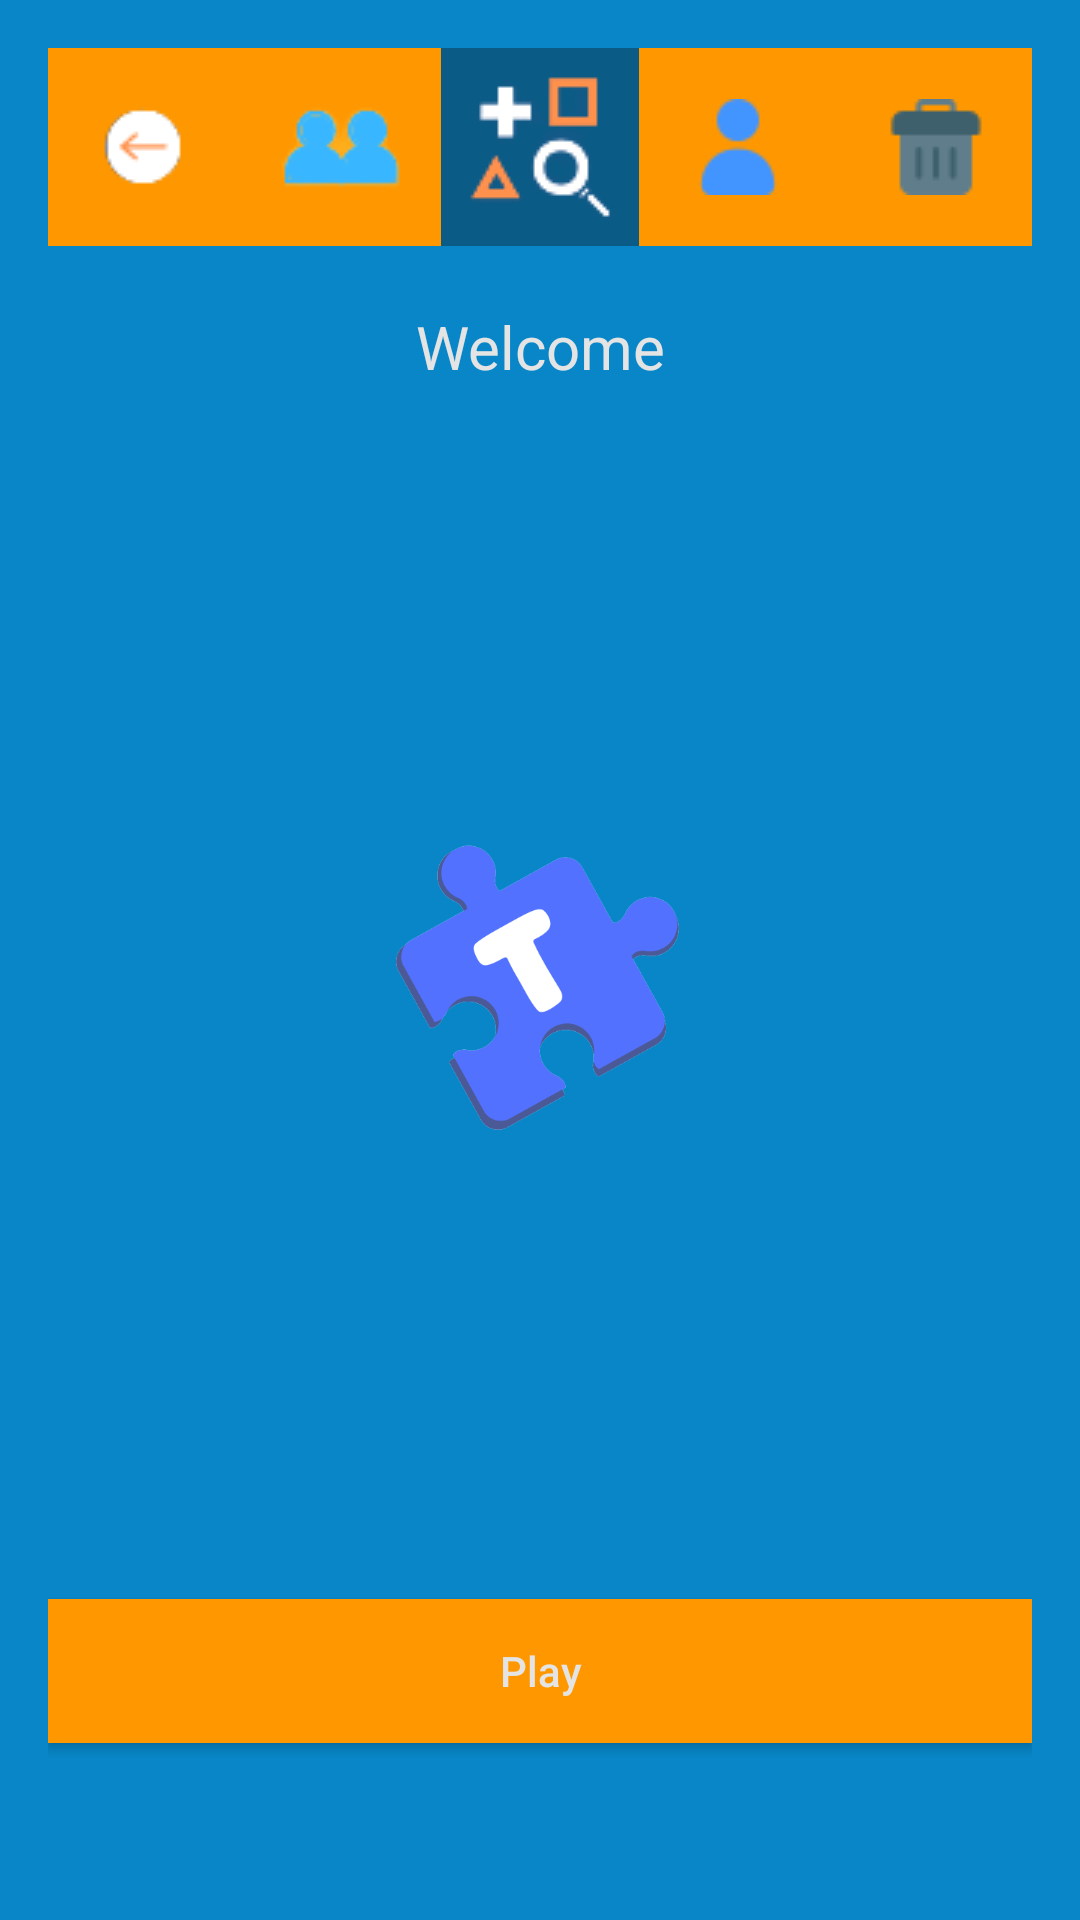

Where to tap for icons on this 1080x1920 app screen, as [x,y]:
button profile description: [738,147]
profiles button: [342,147]
